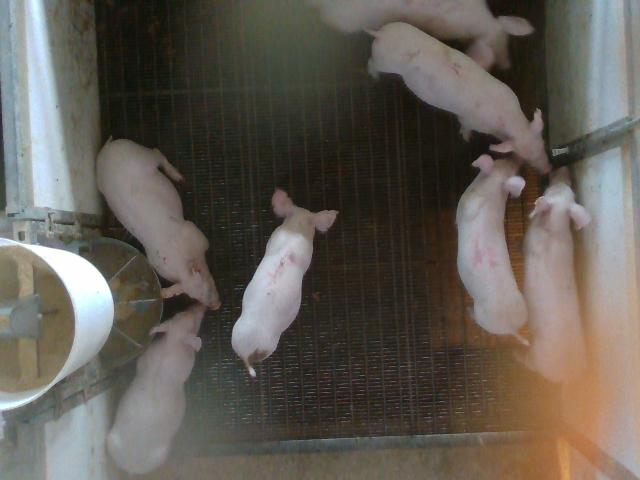pig-3: (308, 0, 534, 69)
pig-4: (456, 154, 529, 344)
pig-5: (231, 189, 338, 376)
